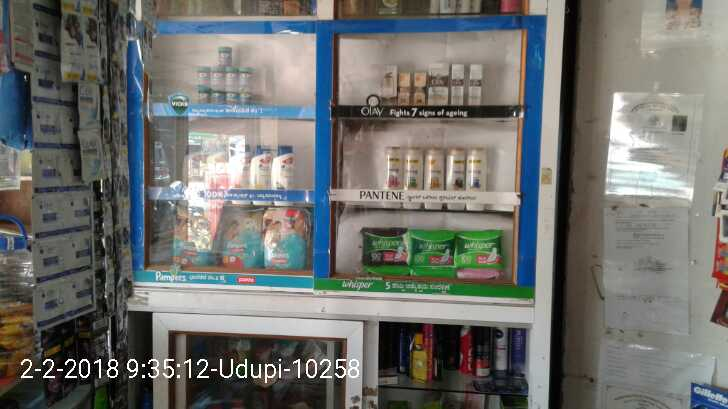beauty: (248, 144, 274, 188), (444, 145, 467, 192), (274, 145, 297, 189), (380, 143, 402, 188), (430, 59, 450, 107), (467, 147, 489, 190), (422, 150, 444, 190), (402, 150, 424, 188), (379, 64, 395, 103), (469, 62, 483, 105), (450, 62, 464, 104), (396, 68, 411, 106), (414, 70, 428, 105)
pharmacy: (264, 207, 312, 272), (174, 206, 217, 269), (219, 207, 261, 268), (362, 225, 409, 269), (457, 229, 501, 268), (408, 231, 457, 264), (215, 45, 233, 68), (235, 66, 253, 87), (208, 89, 224, 105), (237, 87, 252, 104), (196, 88, 211, 105), (196, 66, 210, 84), (211, 69, 225, 87), (225, 70, 235, 87), (224, 92, 235, 103)
